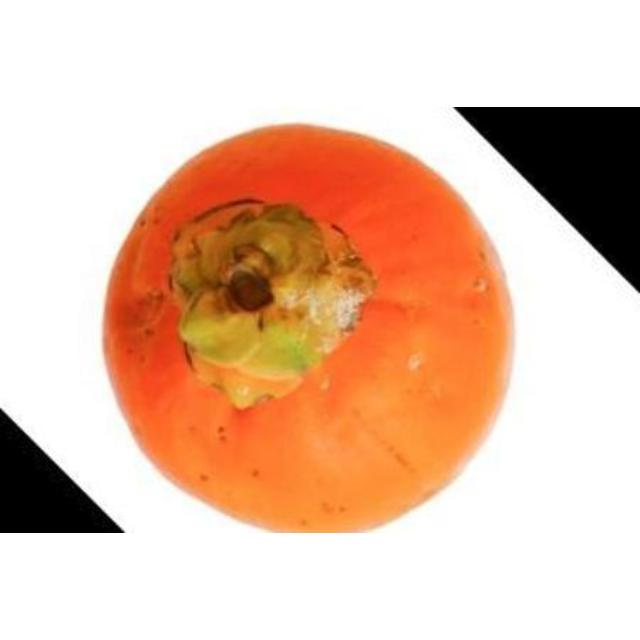good: (104, 125, 515, 532)
